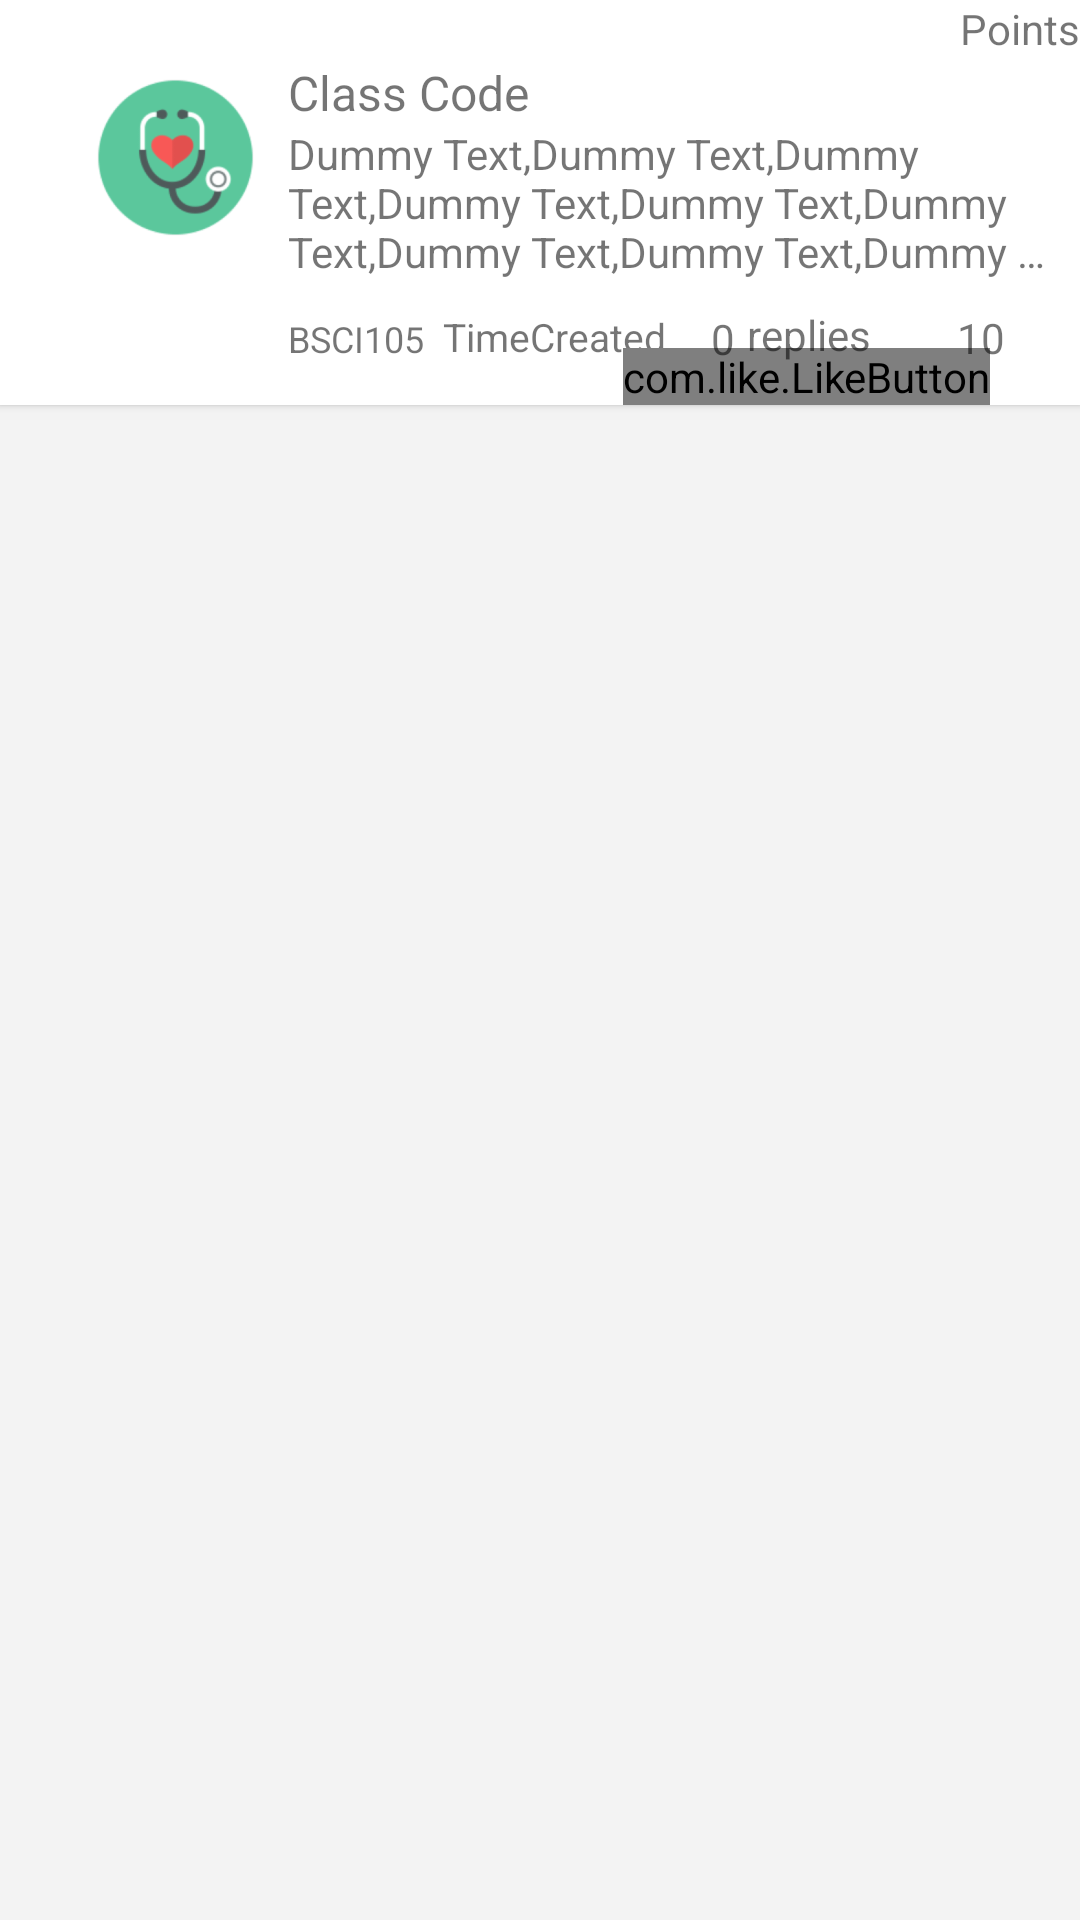

Named icons in this screenshot (1080 × 1920) and their centers, (x=x, y=y):
medical: (x=175, y=157)
